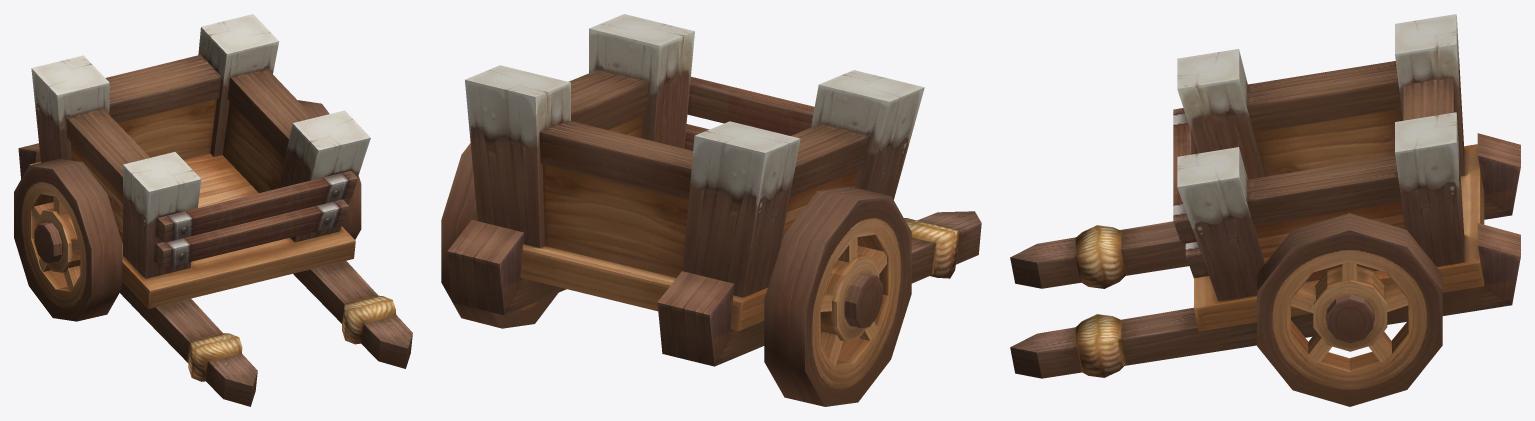
The picture shows the model from 3 angles, left to right: view 1: azimuth 30°, elevation 25°; view 2: azimuth 150°, elevation 25°; view 3: azimuth 270°, elevation 25°; orthographic projection. The views are drawn at different scales.
Visible parts, largest first — view 1: UC005:Sence08:UC005; view 2: UC005:Sence08:UC005; view 3: UC005:Sence08:UC005.
Part boxes in pixels (x1,y1,x2,y2): UC005:Sence08:UC005: (14, 14, 412, 406); UC005:Sence08:UC005: (441, 14, 981, 406); UC005:Sence08:UC005: (1010, 14, 1520, 406).
Size of the model in its own units: 6.91 by 4.88 by 8.99.
